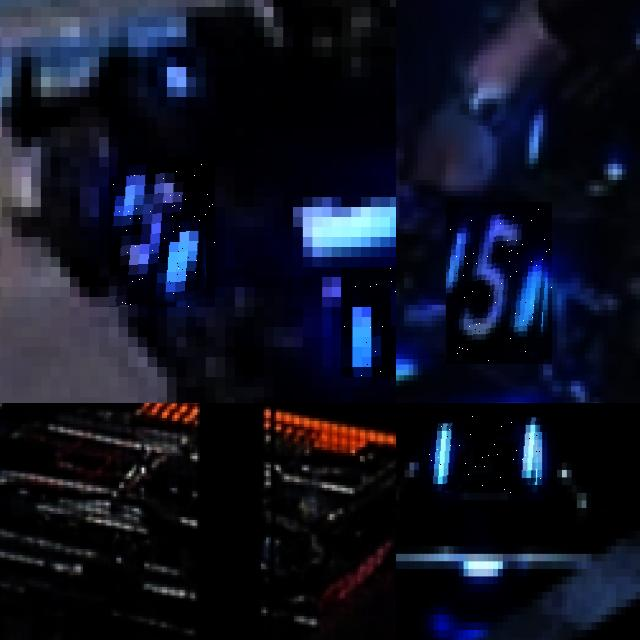B5: (446, 202, 552, 364), (109, 157, 215, 307), (341, 267, 396, 377)
Bs: (429, 409, 542, 493)
